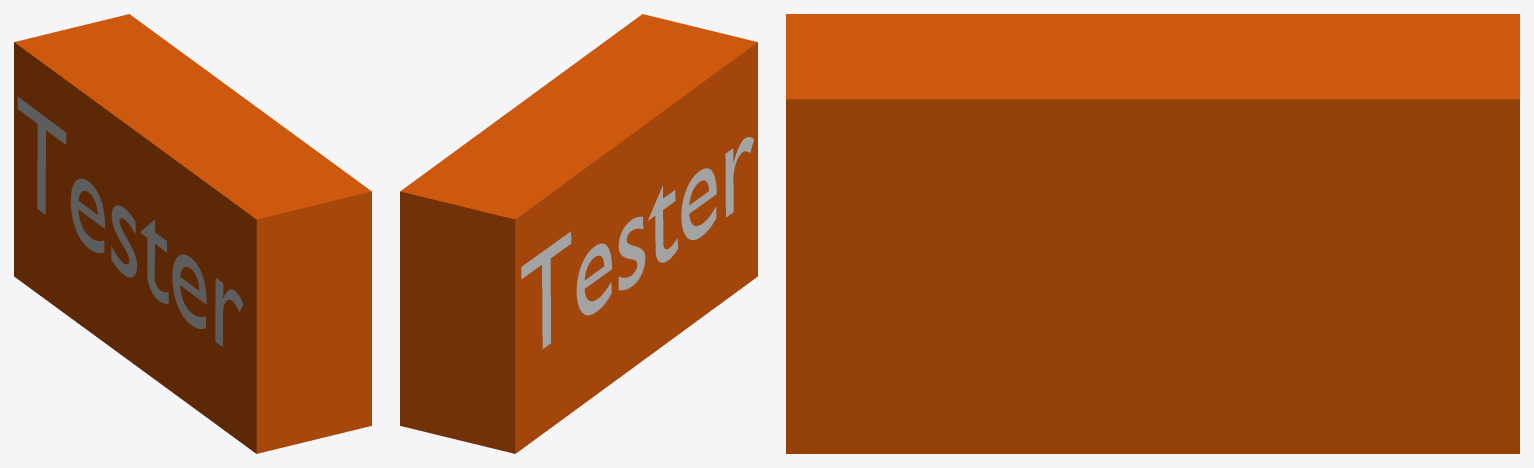
Rendered from tester.fbx.
3 views of the same model, side by side, from view 1: azimuth 30°, elevation 25°; view 2: azimuth 150°, elevation 25°; view 3: azimuth 270°, elevation 25° (orthographic). The views are drawn at different scales.
Parts seen in each view (by area): view 1: Cube, Text; view 2: Cube, Text; view 3: Cube.
Boxes of the visible parts, left/top/right/bottom form: Cube: left=14, top=14, right=371, bottom=453; Text: left=17, top=97, right=243, bottom=346; Cube: left=400, top=14, right=757, bottom=453; Text: left=521, top=137, right=753, bottom=348; Cube: left=786, top=14, right=1519, bottom=453.
Size of the model in its own units: 36.22 by 67.55 by 127.
